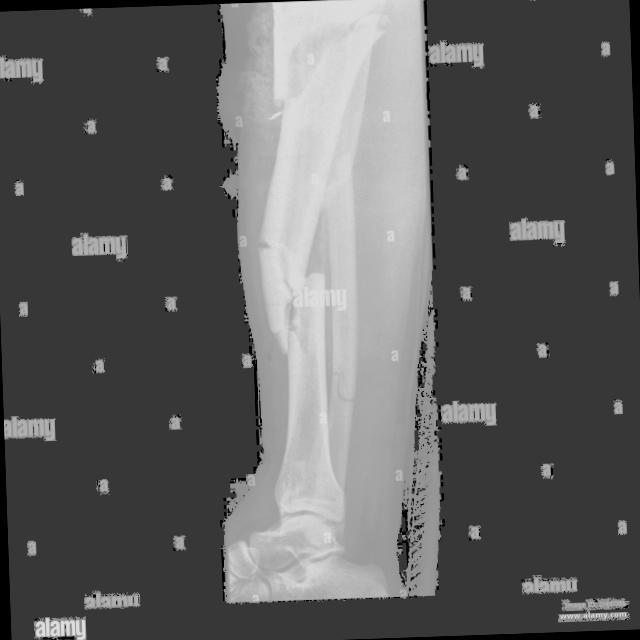Comminuted Fracture: (240, 220, 325, 374)
